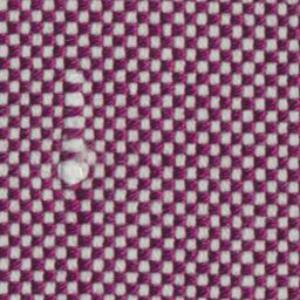defect: (52, 47, 100, 190)
